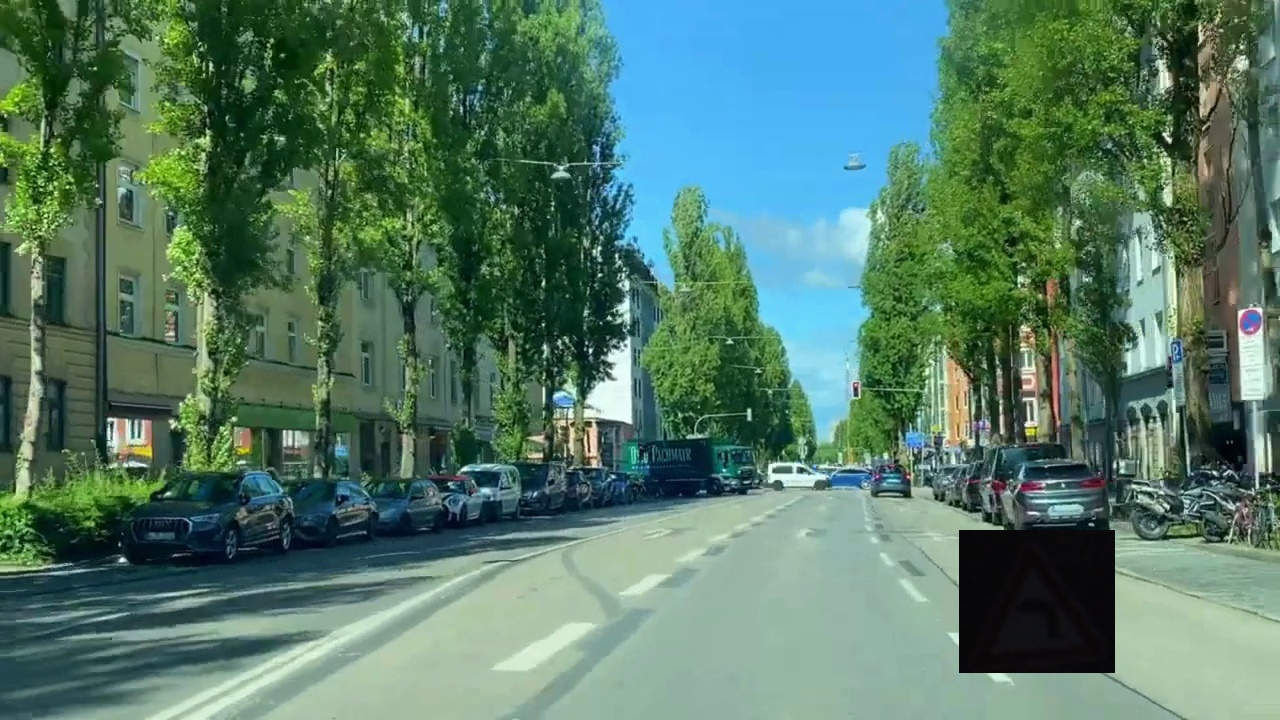Curve left: (959, 530, 1115, 673)
